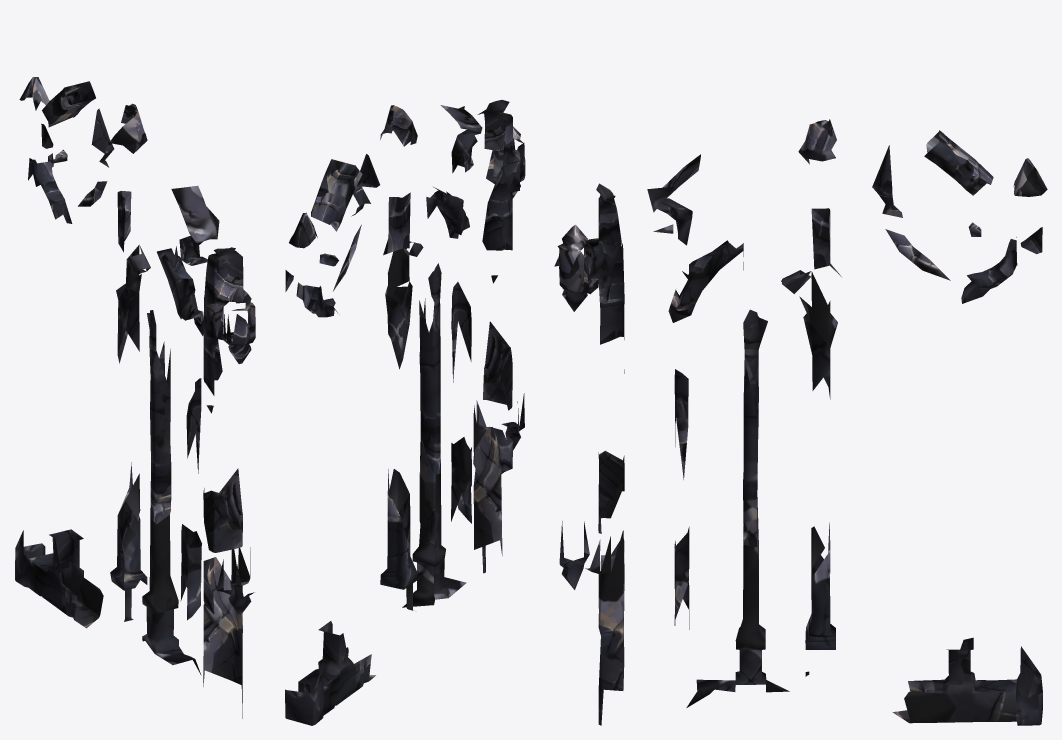
File: RIP0 (3).obj
3 renders of one model, left to right at view 1: azimuth 30°, elevation 25°; view 2: azimuth 150°, elevation 25°; view 3: azimuth 270°, elevation 25°, orthographic. The views are drawn at different scales.
Visible parts, largest first — view 1: RIP0; view 2: RIP0; view 3: RIP0.
Boxes of the visible parts, bbox=[...] form: RIP0: bbox=[15, 77, 255, 718]; RIP0: bbox=[285, 100, 525, 725]; RIP0: bbox=[554, 119, 1047, 725].
Bounding box in the file's own units: 0.0722 × 1 × 0.6351.
